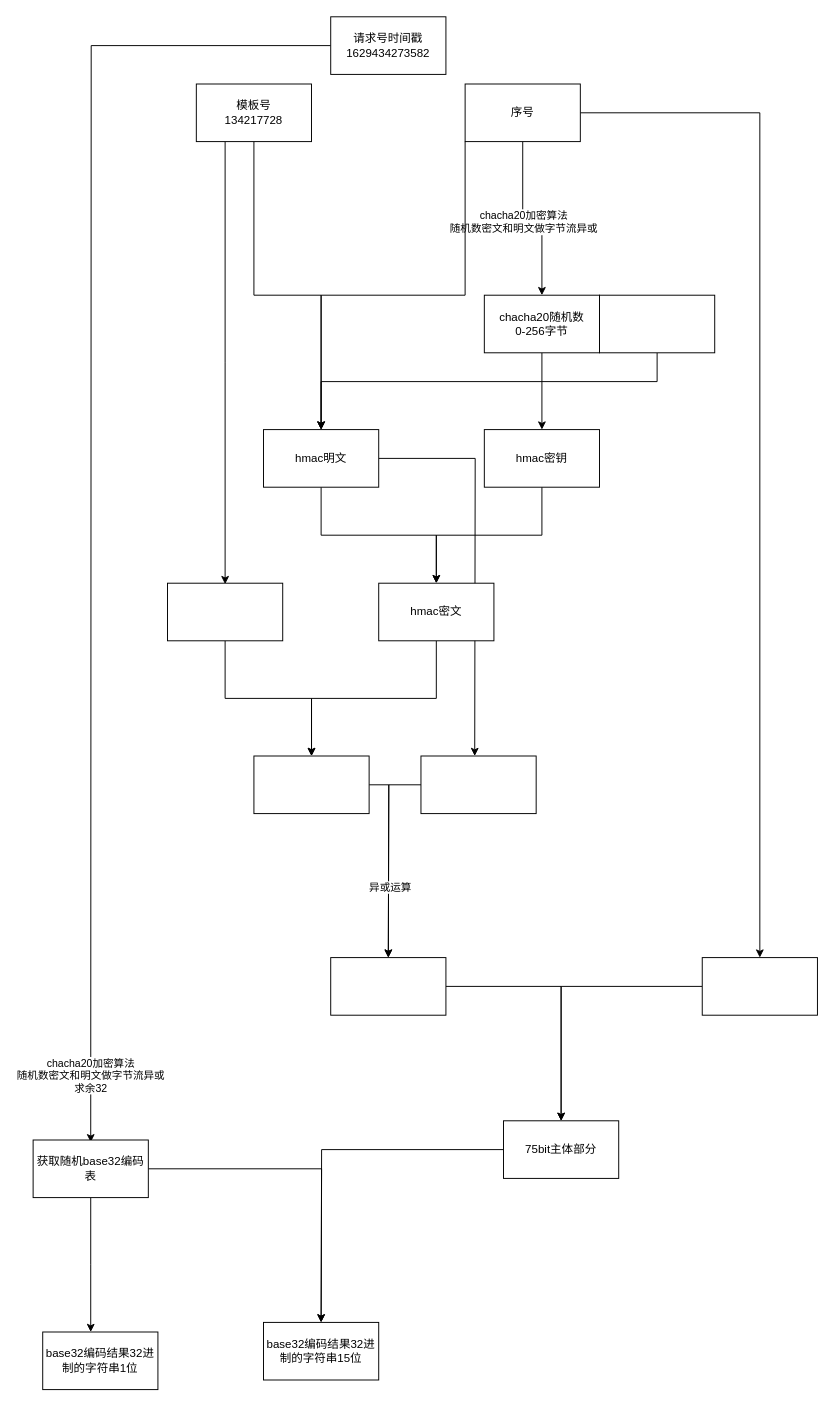
Some shapes in this 834 by 1406 pixel diagram are drawn without their labels. Here are the shapes that lost their labels. From the top down, the centre of each, then its label:
pixel 657 323: chacha20随机数 256-512字节
pixel 225 611: 27bit
pixel 311 784: 拼接45bit
pixel 478 784: 前45bit明文
pixel 388 986: 45bit密文
pixel 759 986: 30bit明文
